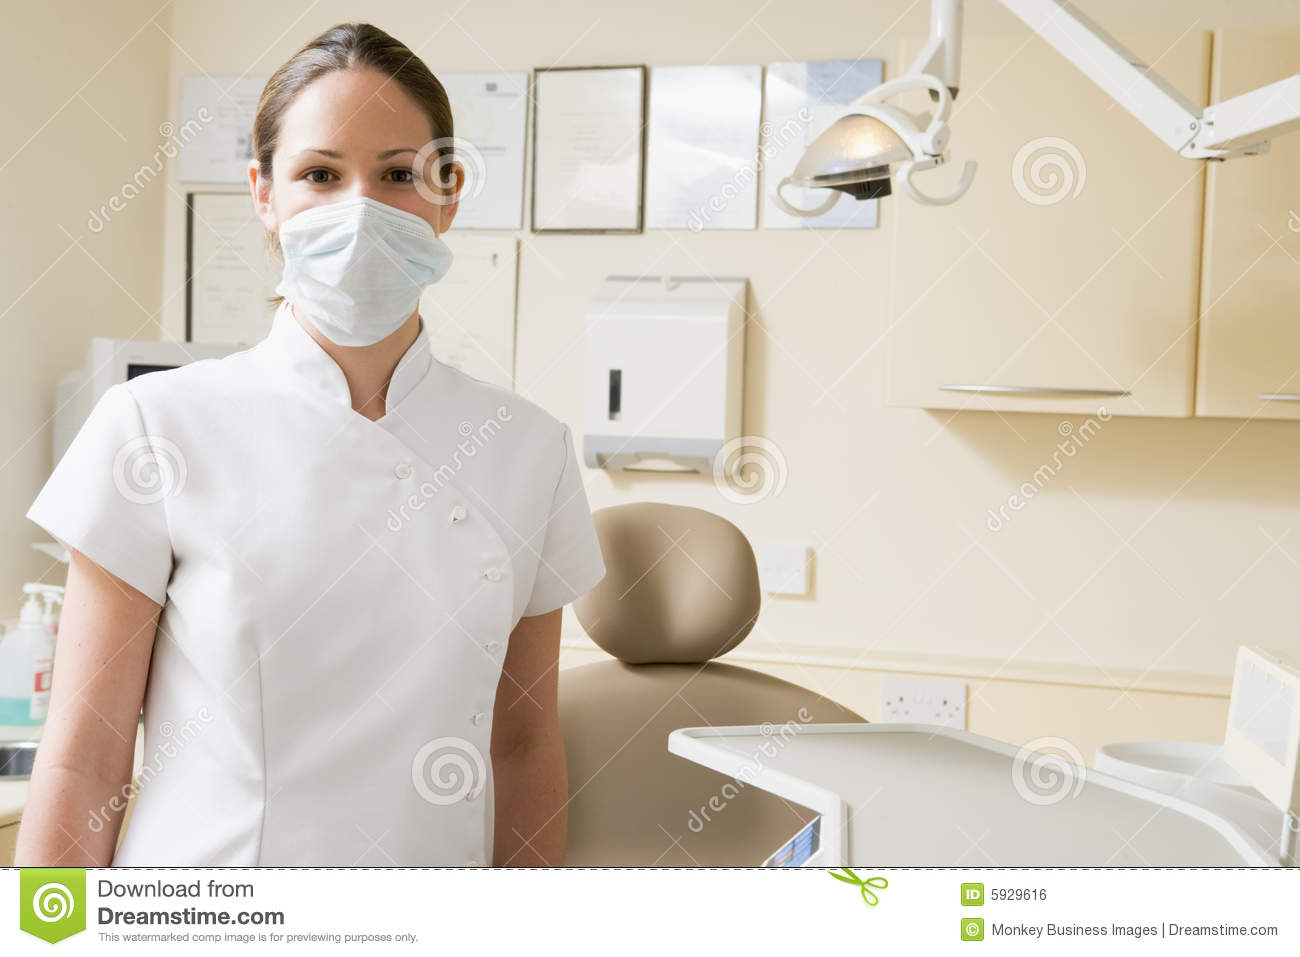mask: (270, 196, 455, 349)
